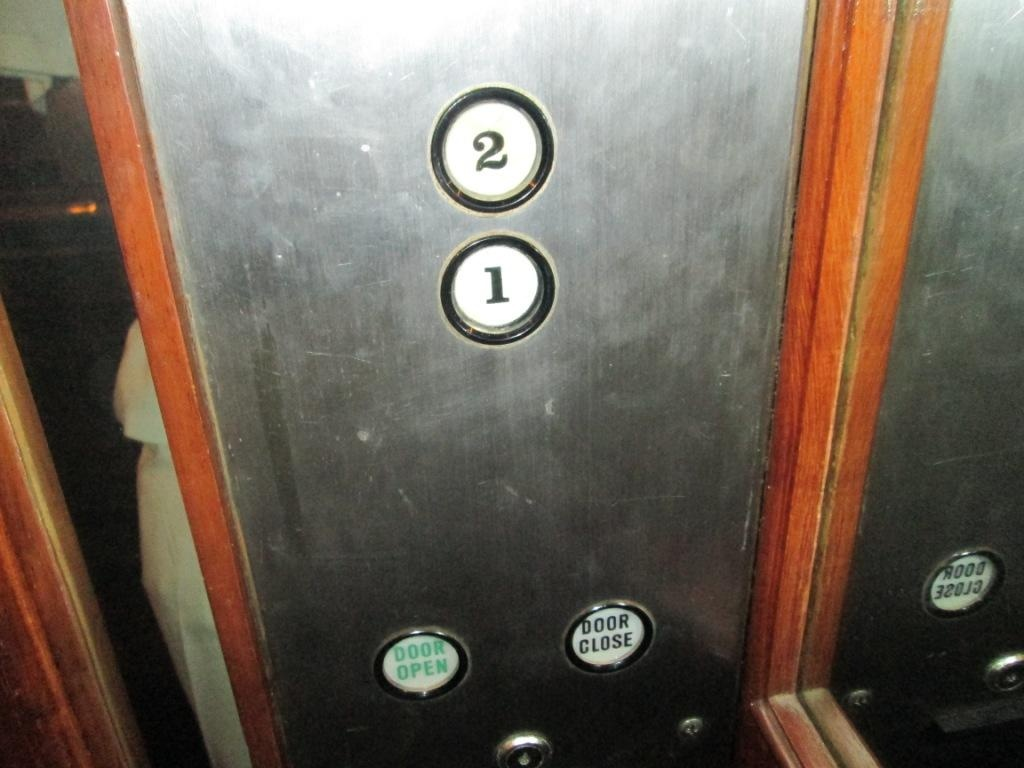1: (434, 230, 558, 349)
2: (425, 85, 560, 218)
keyhole: (490, 729, 561, 768), (984, 651, 1024, 694)
text: (560, 598, 660, 676), (372, 625, 474, 698)
unknown: (919, 544, 1005, 622)
